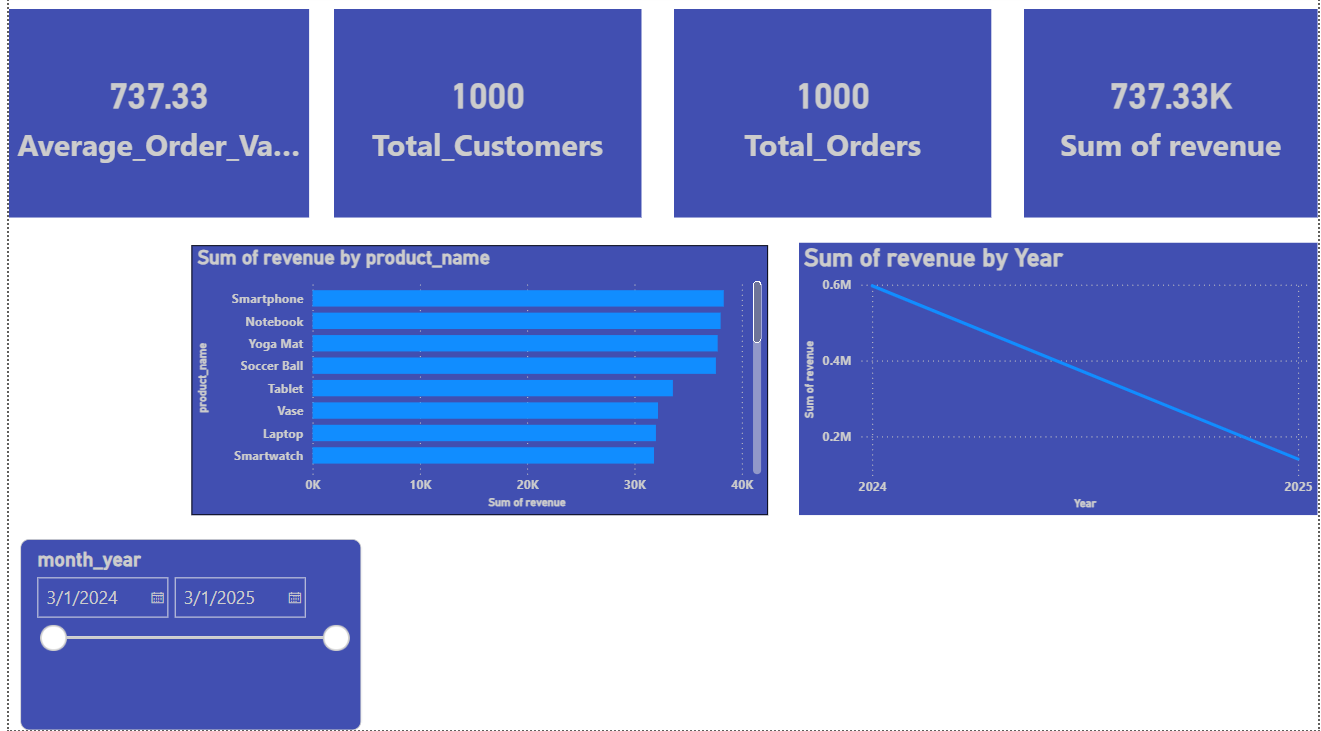

This screenshot's page, from the dashboard's own definition file:
{"tool":"powerbi","page":{"name":"Onlline_Retail","canvas":[1280,720],"ordinal":0},"visuals":[{"type":"card","fields":{"Values":["Sum(cleaned_online_retail_data.revenue)"]},"box":[992.9,14.7,287.4,204.2],"z":0},{"type":"card","fields":{"Values":["cleaned_online_retail_data.Total_Orders"]},"box":[650.5,14.7,310.6,204.2],"z":1000},{"type":"card","fields":{"Values":["customer_rfm_segments.Total_Customers"]},"box":[317.9,14.7,300.8,204.2],"z":2000},{"type":"card","fields":{"Values":["cleaned_online_retail_data.Average_Order_Value"]},"box":[0,14.7,293.5,204.2],"z":3000},{"type":"lineChart","fields":{"Category":["cleaned_online_retail_data.month_year.Variation.Date Hierarchy.Year","cleaned_online_retail_data.month_year.Variation.Date Hierarchy.Quarter","cleaned_online_retail_data.month_year.Variation.Date Hierarchy.Month","cleaned_online_retail_data.month_year.Variation.Date Hierarchy.Day"],"Y":["Sum(cleaned_online_retail_data.revenue)"]},"box":[772.8,243.3,507.5,266.6],"z":4000},{"type":"slicer","fields":{"Values":["cleaned_online_retail_data.month_year"]},"box":[11,533.2,333.8,187.1],"z":5000},{"type":"clusteredBarChart","fields":{"Category":["cleaned_online_retail_data.product_name"],"Y":["Sum(cleaned_online_retail_data.revenue)"]},"box":[178.5,245.8,563.7,264.1],"z":5001}]}

Visuals, with their boxes in screenshot pixels (x1, y1, x2, y2), scaled from the page's 1280x720 canvas onto the 1321x731 screenshot:
card - Sum(cleaned_online_retail_data.revenue): bbox=[1025, 15, 1320, 222]
card - cleaned_online_retail_data.Total_Orders: bbox=[671, 15, 992, 222]
card - customer_rfm_segments.Total_Customers: bbox=[328, 15, 639, 222]
card - cleaned_online_retail_data.Average_Order_Value: bbox=[0, 15, 303, 222]
lineChart - cleaned_online_retail_data.month_year.Variation.Date Hierarchy.Year x cleaned_online_retail_data.month_year.Variation.Date Hierarchy.Quarter: bbox=[798, 247, 1320, 518]
slicer - cleaned_online_retail_data.month_year: bbox=[11, 541, 356, 730]
clusteredBarChart - cleaned_online_retail_data.product_name x Sum(cleaned_online_retail_data.revenue): bbox=[184, 250, 766, 518]
